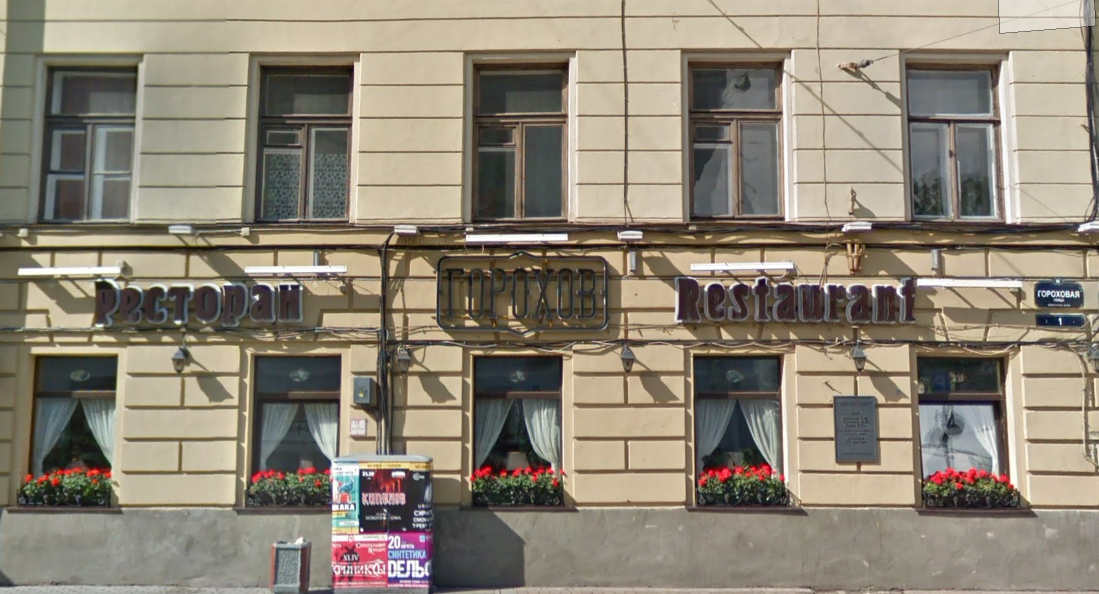signboard: (670, 265, 926, 338), (433, 249, 620, 344), (87, 275, 311, 332)
window: (916, 352, 1025, 509), (902, 59, 1003, 228), (465, 351, 569, 505), (690, 350, 789, 509), (469, 63, 567, 223), (37, 63, 131, 222), (31, 355, 124, 511), (256, 66, 347, 222), (690, 65, 780, 218), (249, 358, 337, 501)
